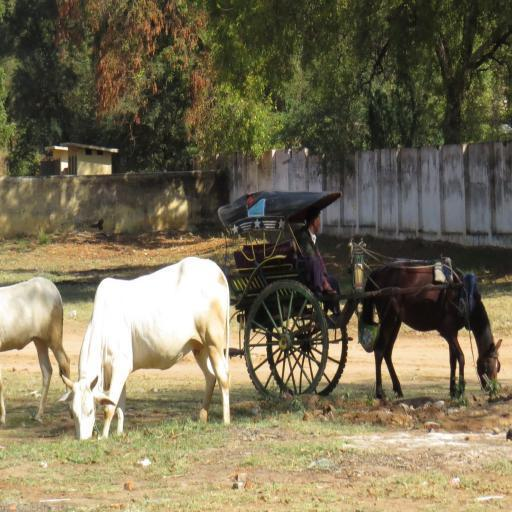horse: (360, 260, 502, 398)
